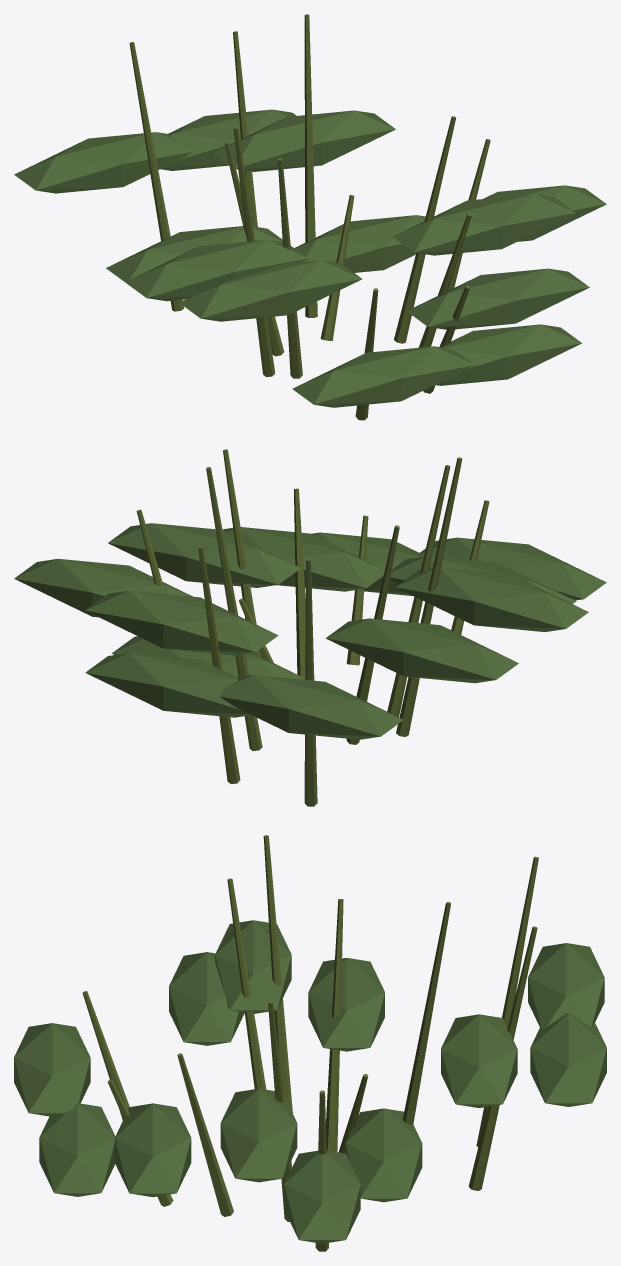
Rendered from fern.glb.
The picture shows the model from 3 angles, top to bottom: view 1: azimuth 30°, elevation 25°; view 2: azimuth 150°, elevation 25°; view 3: azimuth 270°, elevation 25°; orthographic projection. The views are drawn at different scales.
Parts seen in each view (by area): view 1: world-scenery/fern; view 2: world-scenery/fern; view 3: world-scenery/fern.
Part boxes in pixels (x1,y1,x2,y2): world-scenery/fern: (14, 14, 606, 420); world-scenery/fern: (14, 449, 606, 806); world-scenery/fern: (14, 835, 606, 1251).
Size of the model in its own units: 1.65 by 0.9019 by 1.58.
